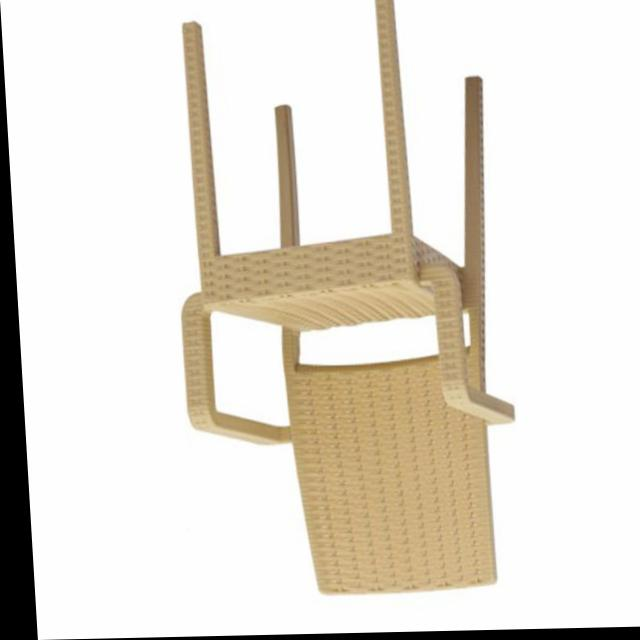Chair: (162, 0, 518, 603)
